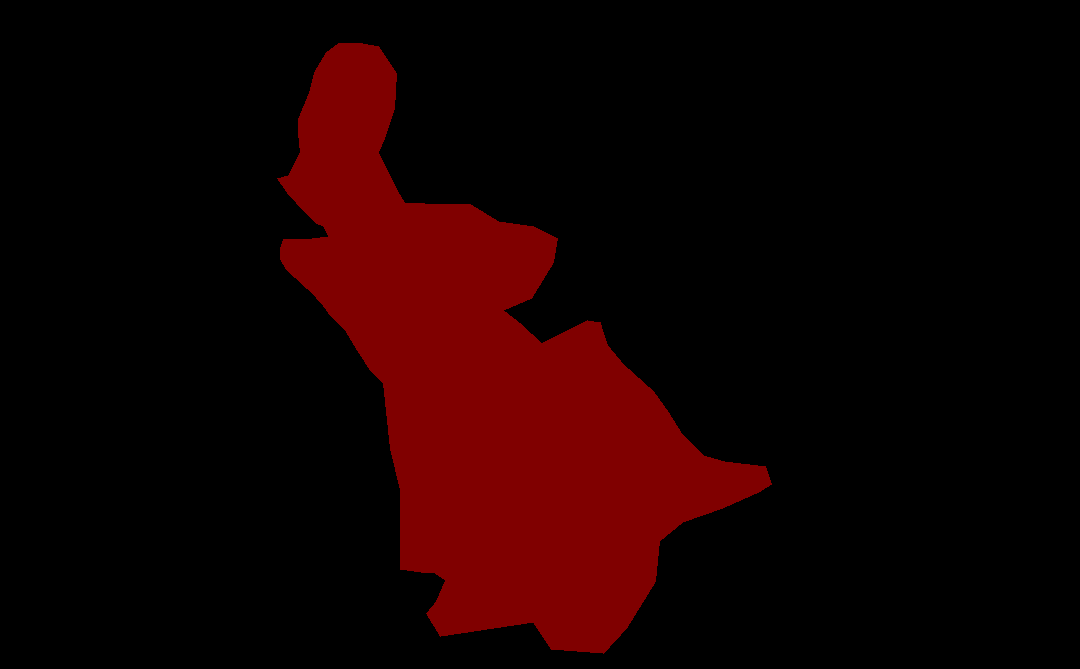fire: (277, 43, 771, 653)
